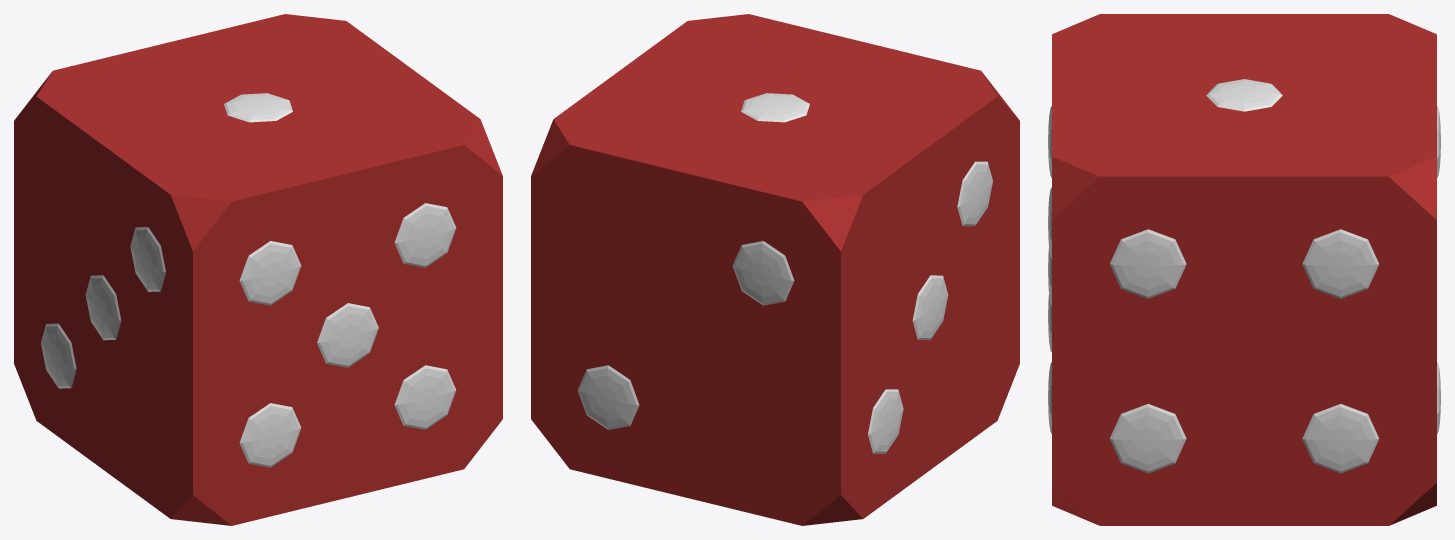
File: Die.fbx
3 renders of one model, left to right at view 1: azimuth 30°, elevation 25°; view 2: azimuth 150°, elevation 25°; view 3: azimuth 270°, elevation 25°, orthographic. The views are drawn at different scales.
Parts seen in each view (by area): view 1: Cube.008, Sphere.004, Sphere.005, Sphere.001; view 2: Cube.008, Sphere.003, Sphere.005, Sphere.001; view 3: Cube.008, Sphere.002, Sphere.001, Sphere.004, Sphere.003.
Boxes of the visible parts, <box> form: Cube.008: <box>14,14,502,525</box>; Sphere.004: <box>239,203,456,467</box>; Sphere.005: <box>41,227,165,388</box>; Sphere.001: <box>224,93,292,122</box>; Cube.008: <box>531,14,1019,525</box>; Sphere.003: <box>577,241,794,429</box>; Sphere.005: <box>868,161,992,453</box>; Sphere.001: <box>741,93,809,122</box>; Cube.008: <box>1052,14,1436,525</box>; Sphere.002: <box>1109,229,1379,473</box>; Sphere.001: <box>1206,79,1282,111</box>; Sphere.004: <box>1048,106,1051,433</box>; Sphere.003: <box>1437,106,1440,433</box>.
Size of the model in its own units: 1020 by 1020 by 1020.
